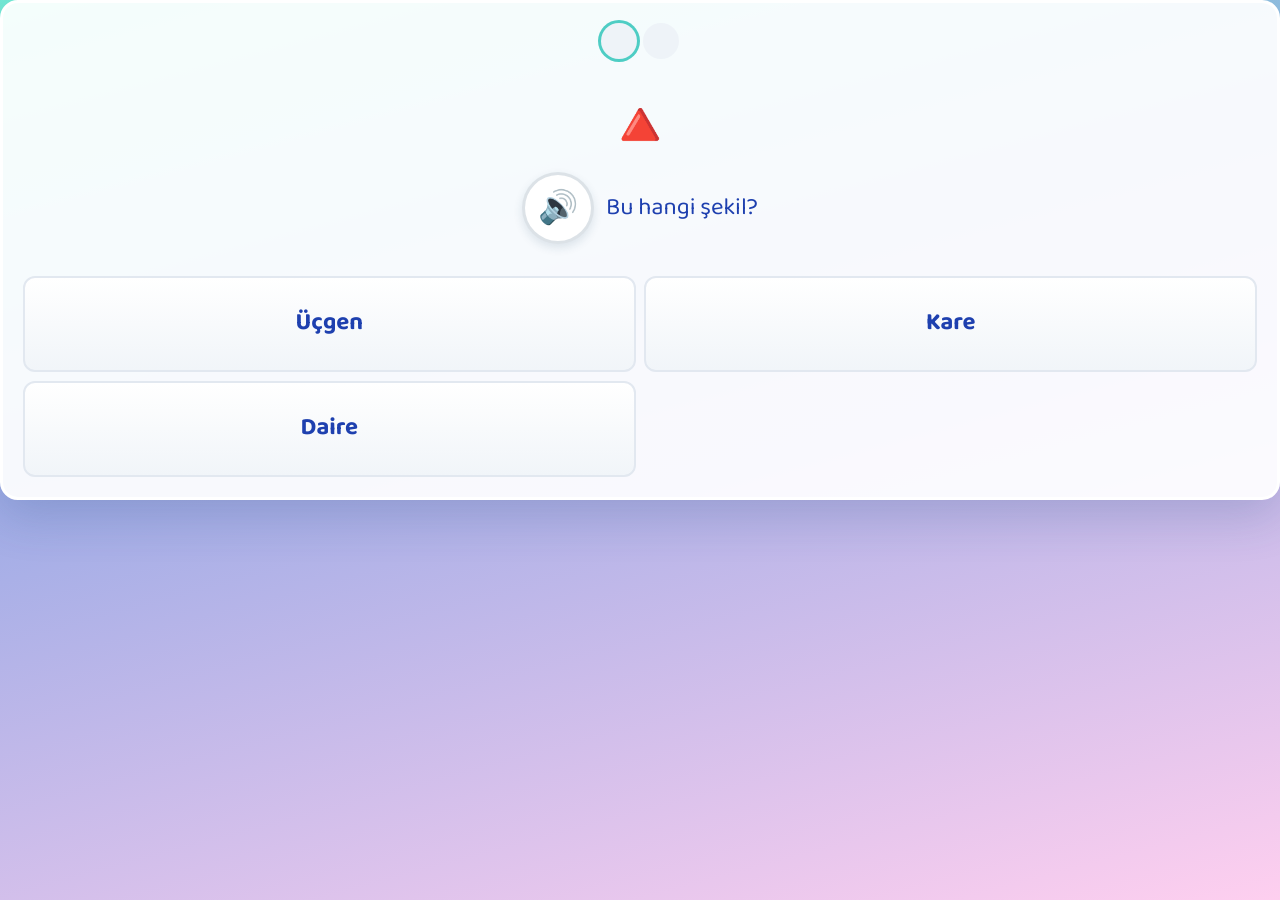
Scenario: QuizGame › doğru → süreç övgüsü ve ilerleme; set sonu exercise_set_end + set_end, iki düğme
This screenshot has width=1280, height=900.
Click the button "Üçgen" at (329, 324), box x1=23 y1=276 x2=636 y2=372
Wait 500 ms
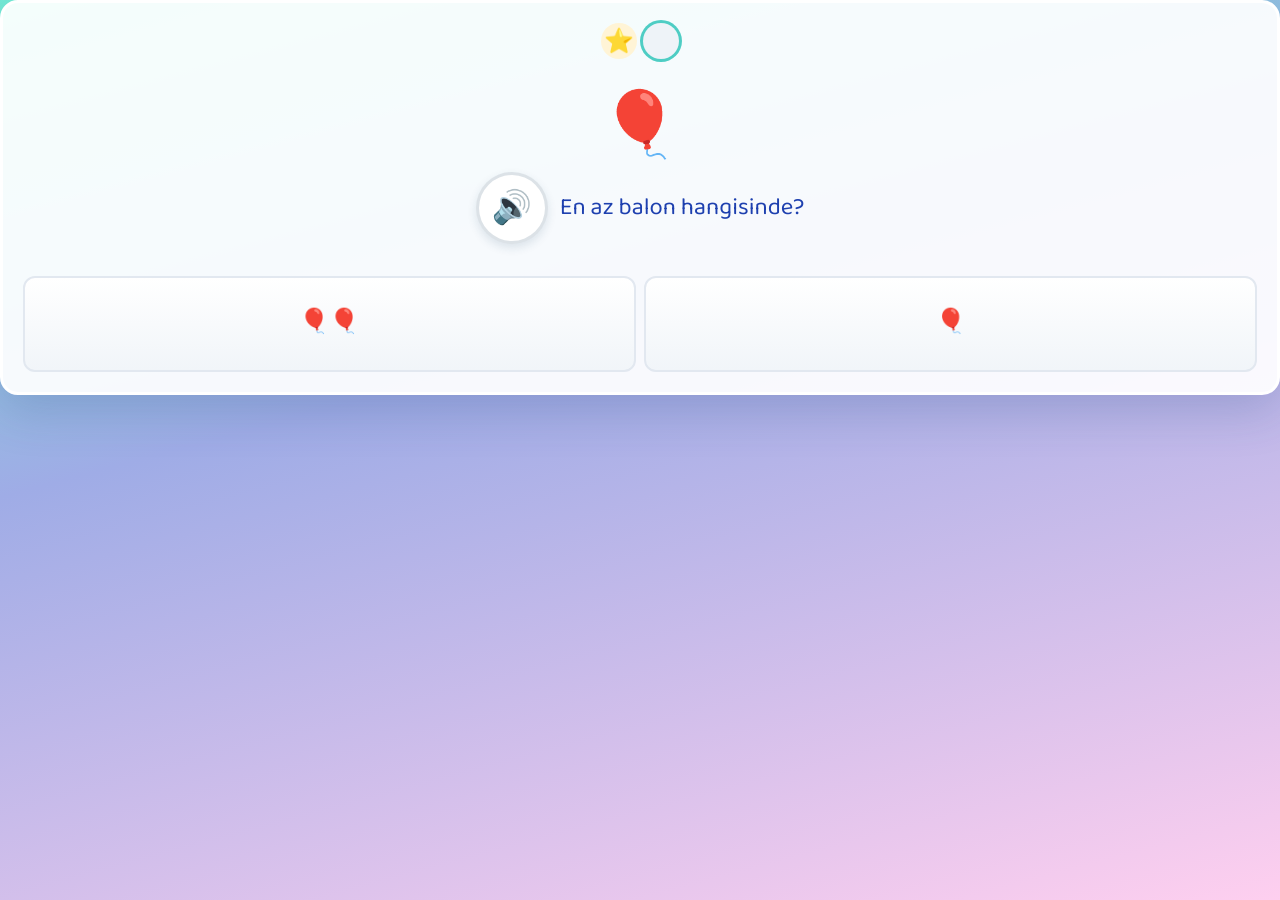
Click the button named "iki balon" at (329, 324), box x1=23 y1=276 x2=636 y2=372
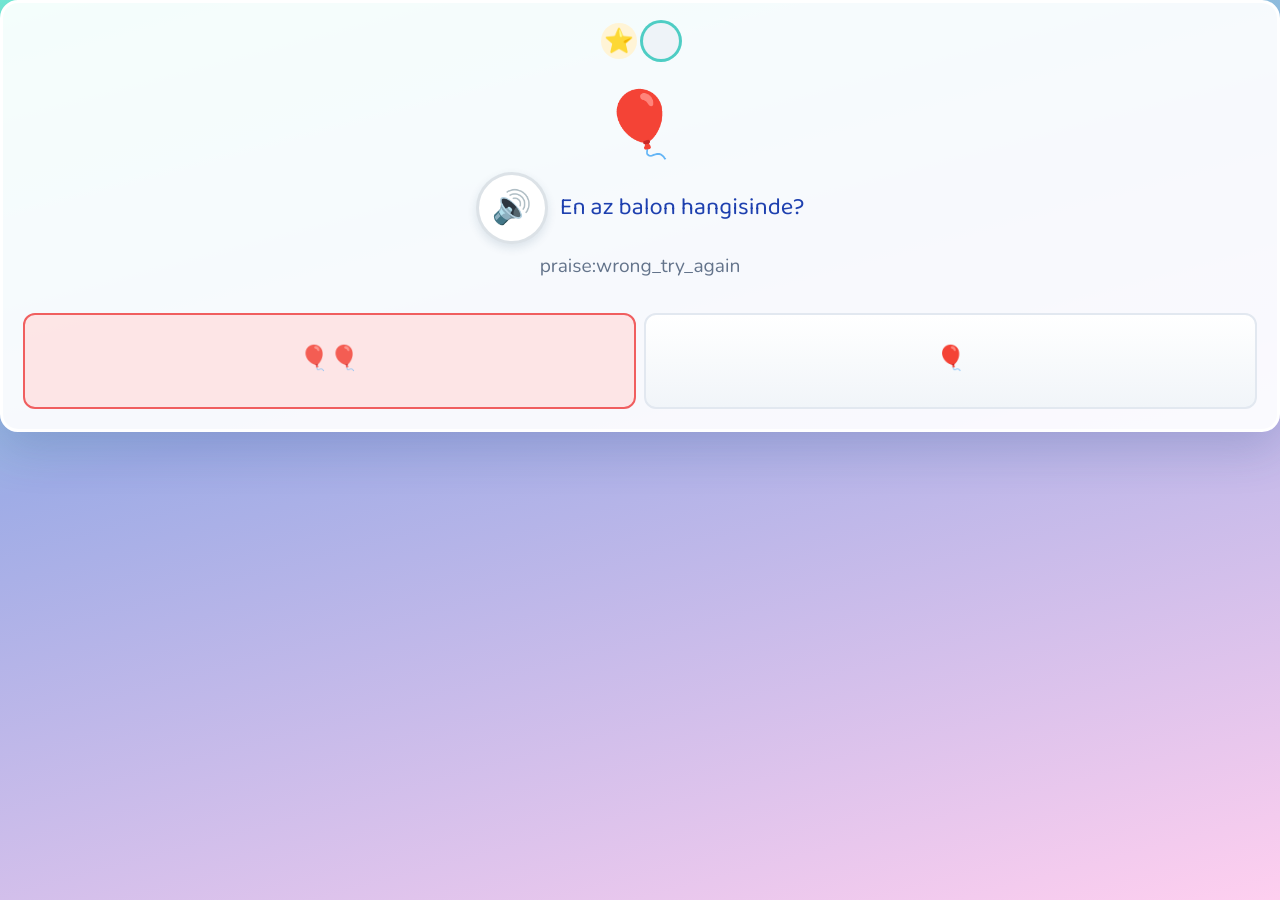
Click the button named "bir balon" at (951, 361), box x1=644 y1=313 x2=1257 y2=409
Wait 500 ms
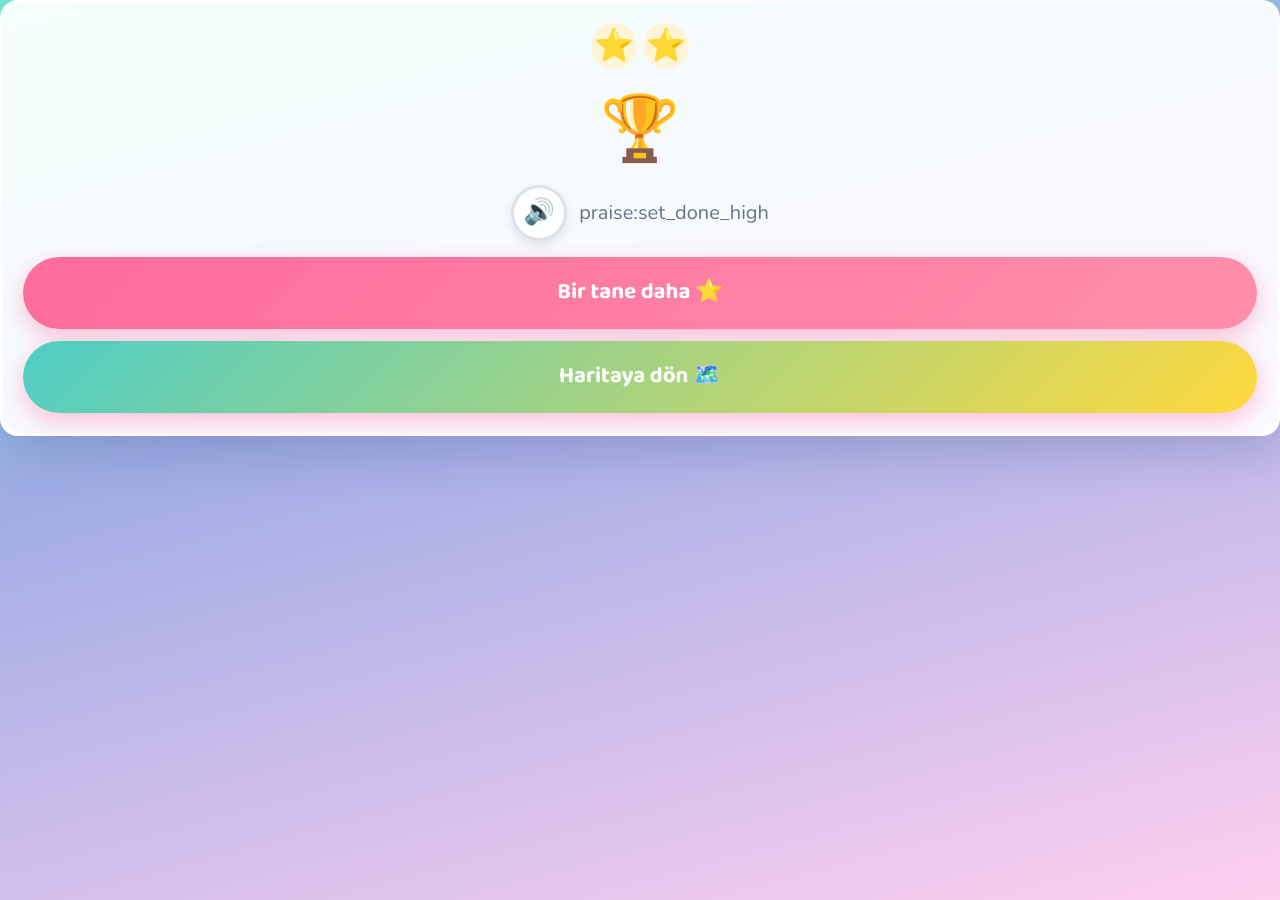
Expected: the button "Bir tane daha ⭐" is shown
Click the button "Bir tane daha ⭐" at (640, 293), box x1=23 y1=257 x2=1257 y2=329
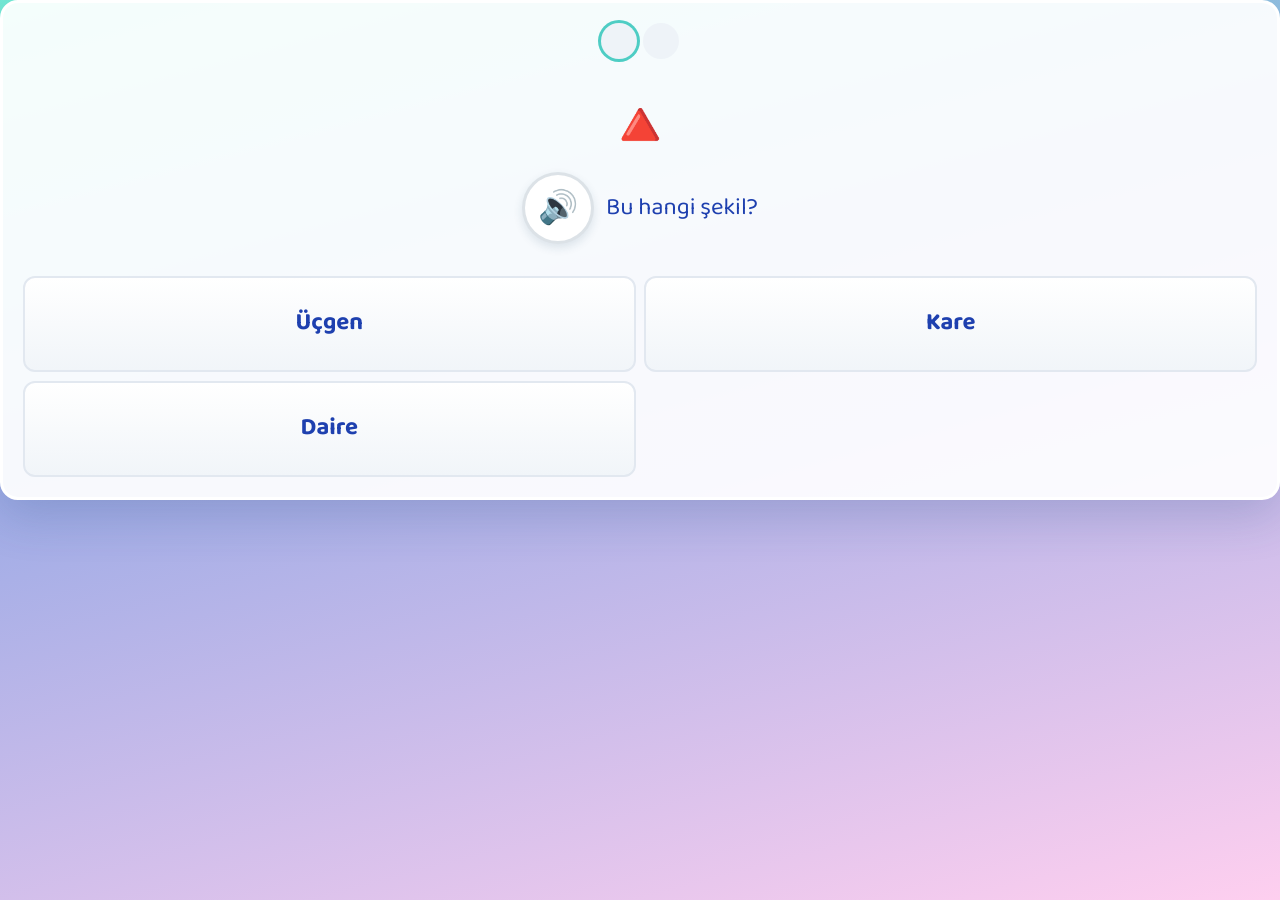
Expected: the button "Üçgen" is shown, x1=23 y1=276 x2=636 y2=372
